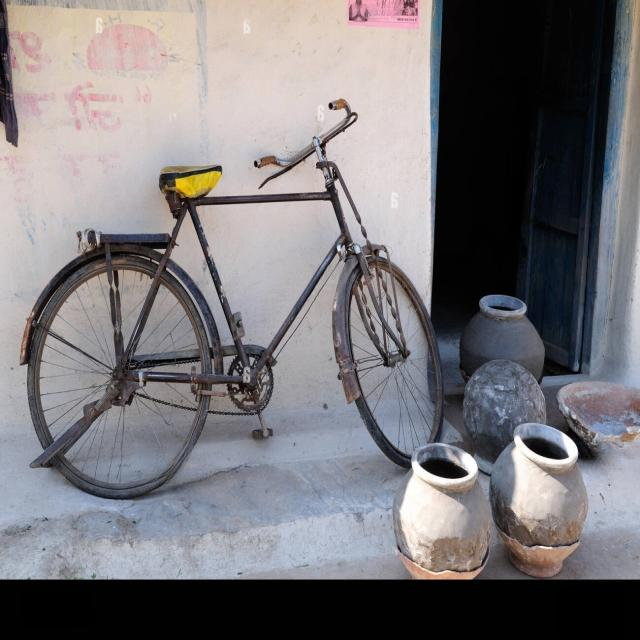bicycle: (19, 99, 444, 497)
